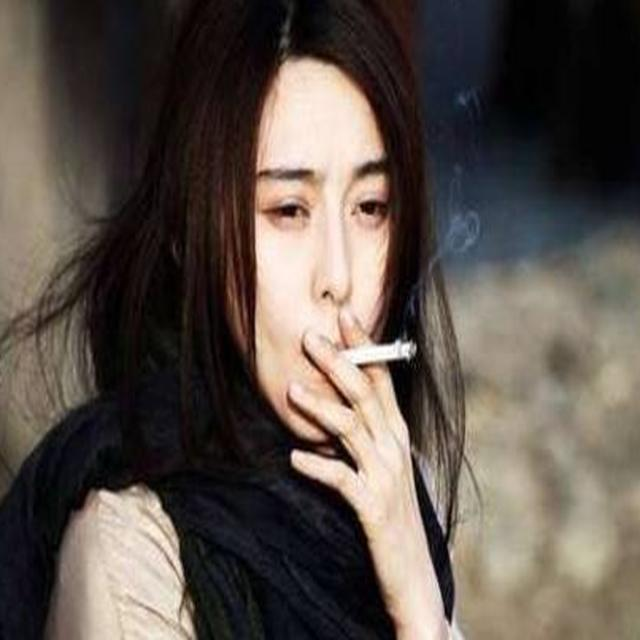smoking: (209, 7, 457, 618)
